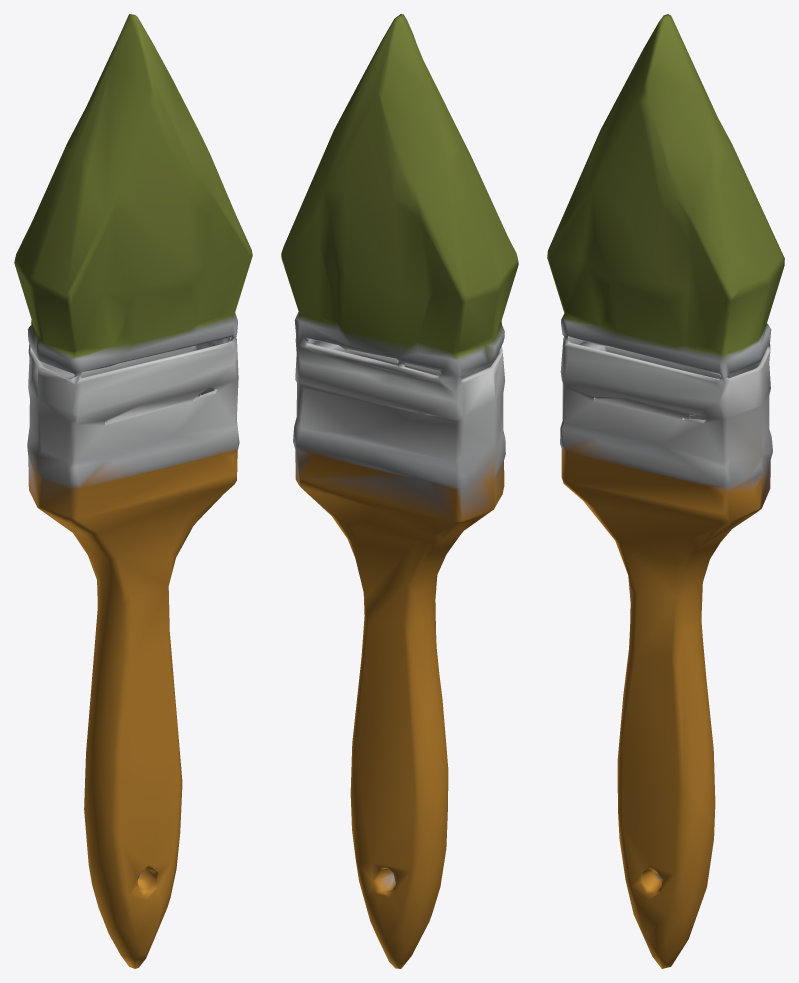
The model's file is gen3d-paintbrush-lod1.glb.
3 renders of one model, left to right at view 1: azimuth 30°, elevation 25°; view 2: azimuth 150°, elevation 25°; view 3: azimuth 330°, elevation 25°, orthographic.
Visible parts, largest first — view 1: part_0; view 2: part_0; view 3: part_0.
Boxes of the visible parts, <box> form: part_0: <box>14,14,252,968</box>; part_0: <box>281,14,518,968</box>; part_0: <box>547,14,784,968</box>.
Size of the model in its own units: 0.2244 by 0.9981 by 0.1115.
